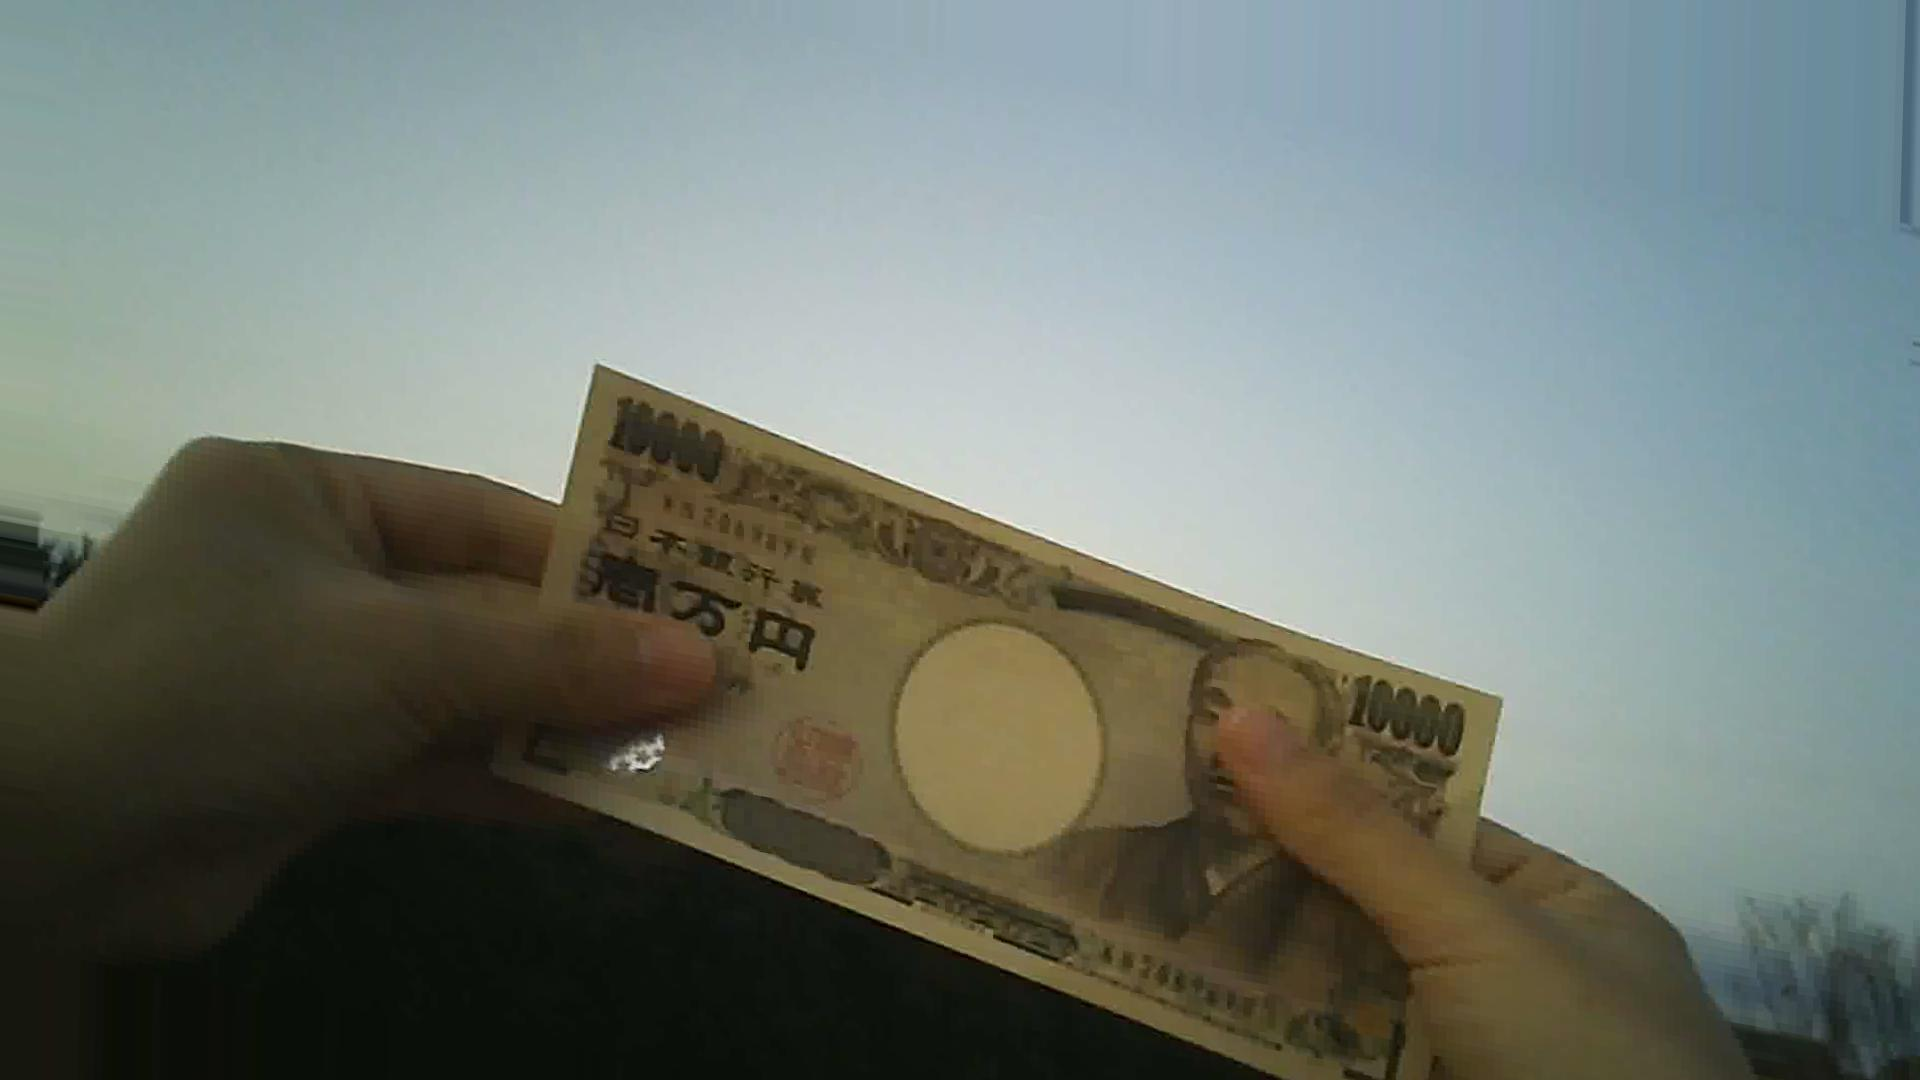10,000 Yen: (492, 356, 1501, 1068)
